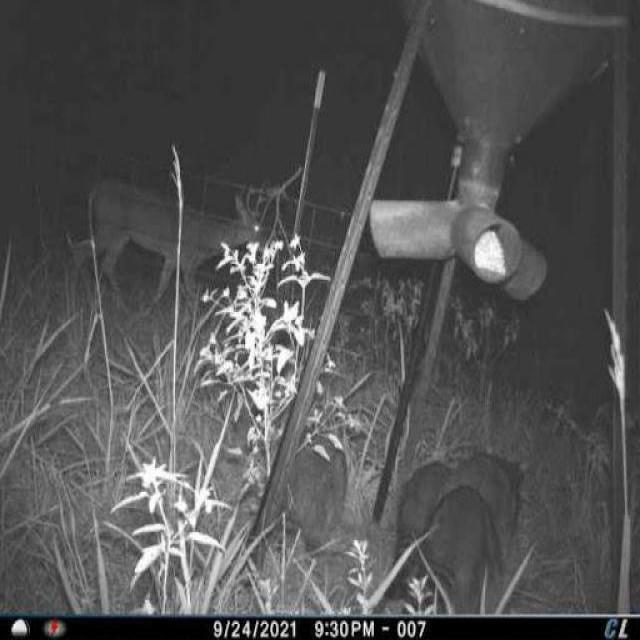deer: (79, 164, 272, 315)
